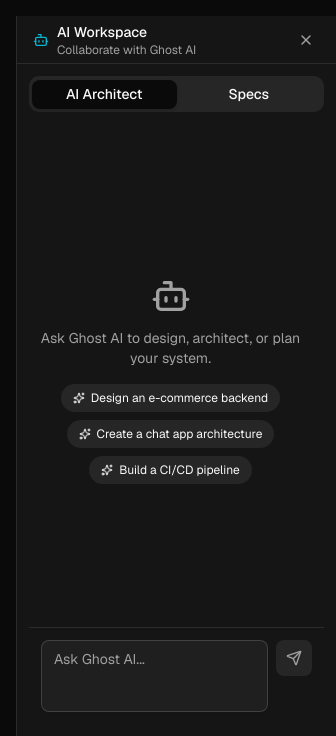
AiSidebar › handleSend adds user message when input has text
Type "Design a microservice" into the text box with placeholder "Ask Ghost AI..." at (154, 676), box [41,640,268,712]
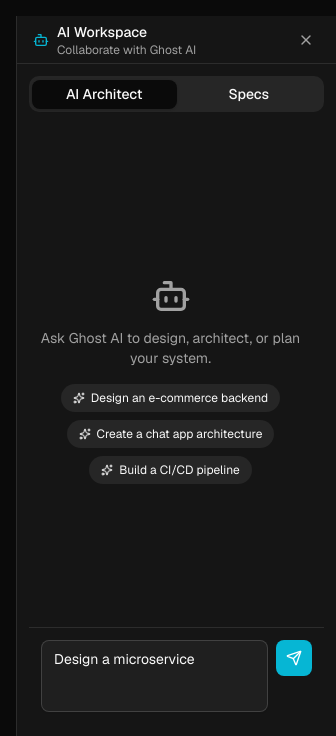
Click the button named "Send message" at (294, 658), box [276,640,312,676]
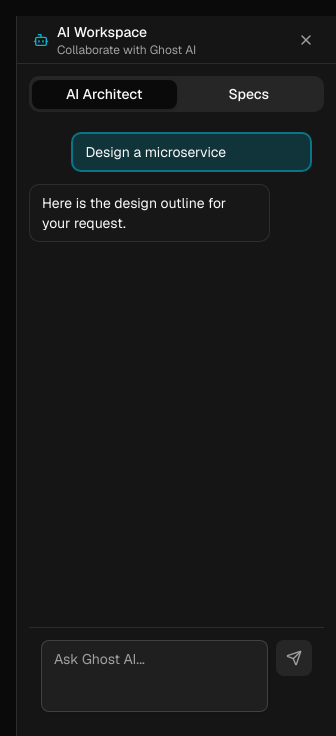
Check: the text "Design a microservice" is shown, box [72,132,312,172]
